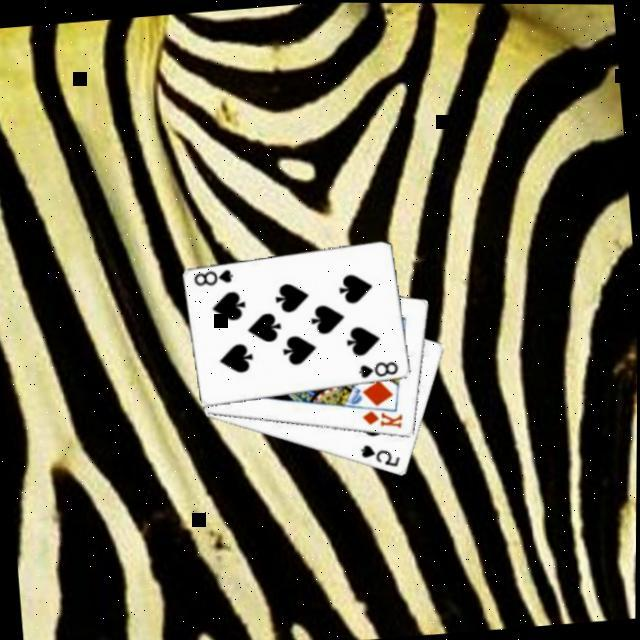5S: (356, 438, 403, 473)
8S: (188, 266, 236, 290), (353, 357, 400, 381)
KD: (356, 404, 404, 434)
